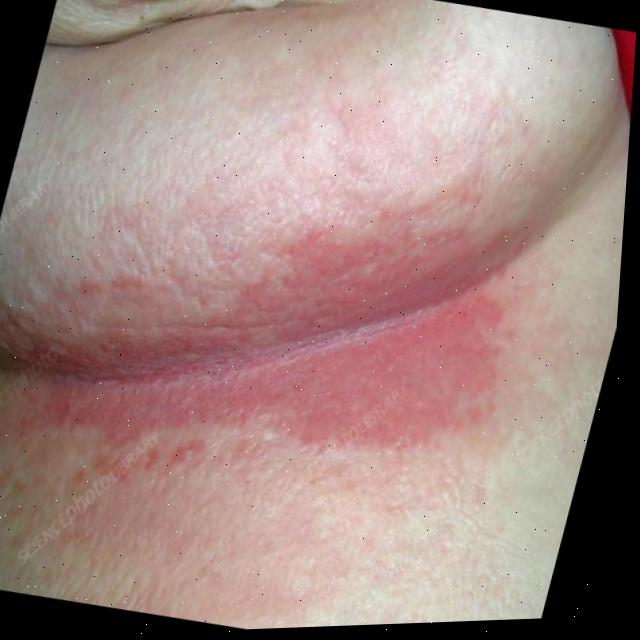Eczema: (12, 125, 567, 535)
